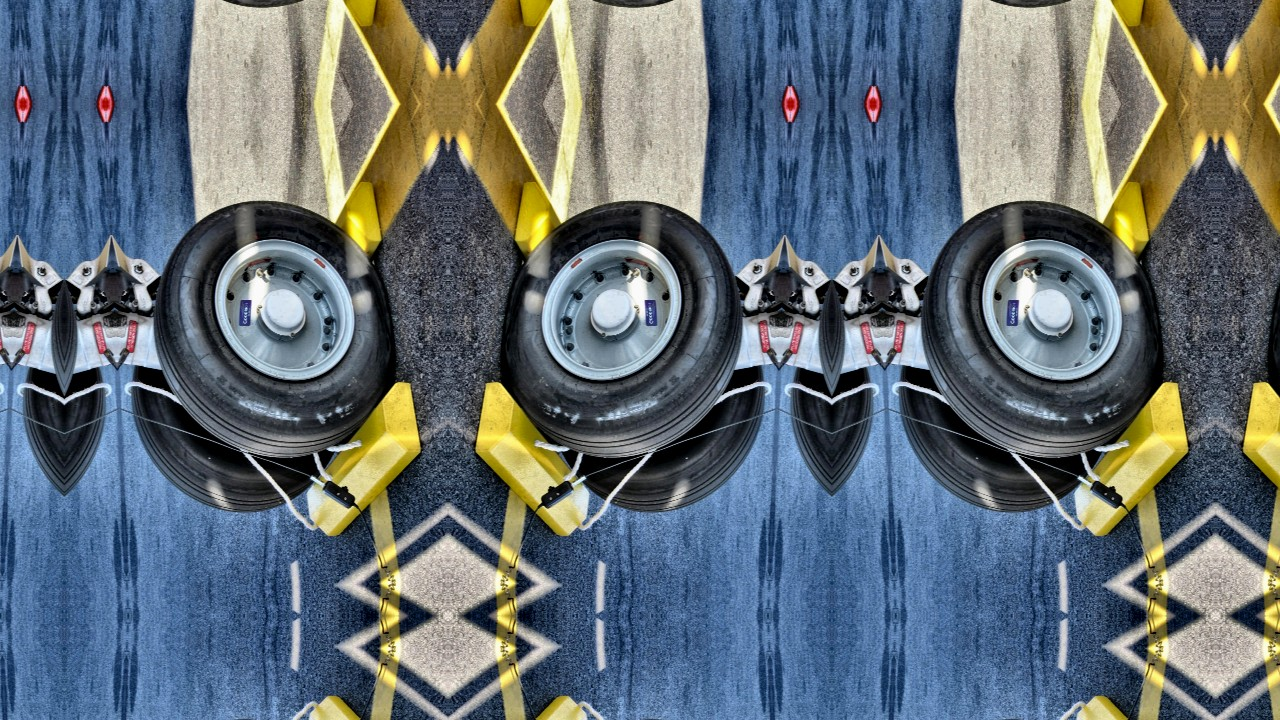chock: (294, 380, 425, 538), (471, 380, 602, 538), (1062, 380, 1193, 538), (285, 180, 383, 310), (513, 180, 611, 310), (1053, 180, 1151, 310), (1239, 380, 1280, 538), (294, 694, 425, 720), (471, 694, 602, 720), (1062, 694, 1193, 720), (285, 0, 383, 28), (513, 0, 611, 28), (1053, 0, 1151, 28), (1239, 694, 1280, 720)
wheel: (148, 194, 395, 461), (501, 194, 748, 461), (916, 194, 1163, 461), (130, 362, 325, 515), (571, 362, 766, 515), (898, 362, 1093, 515), (148, 0, 395, 14), (501, 0, 748, 14), (916, 0, 1163, 14)
